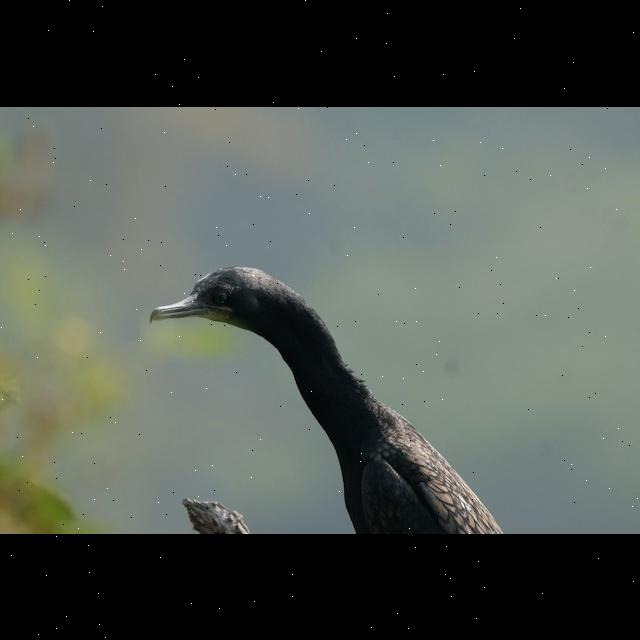cormorant: (89, 264, 473, 532)
